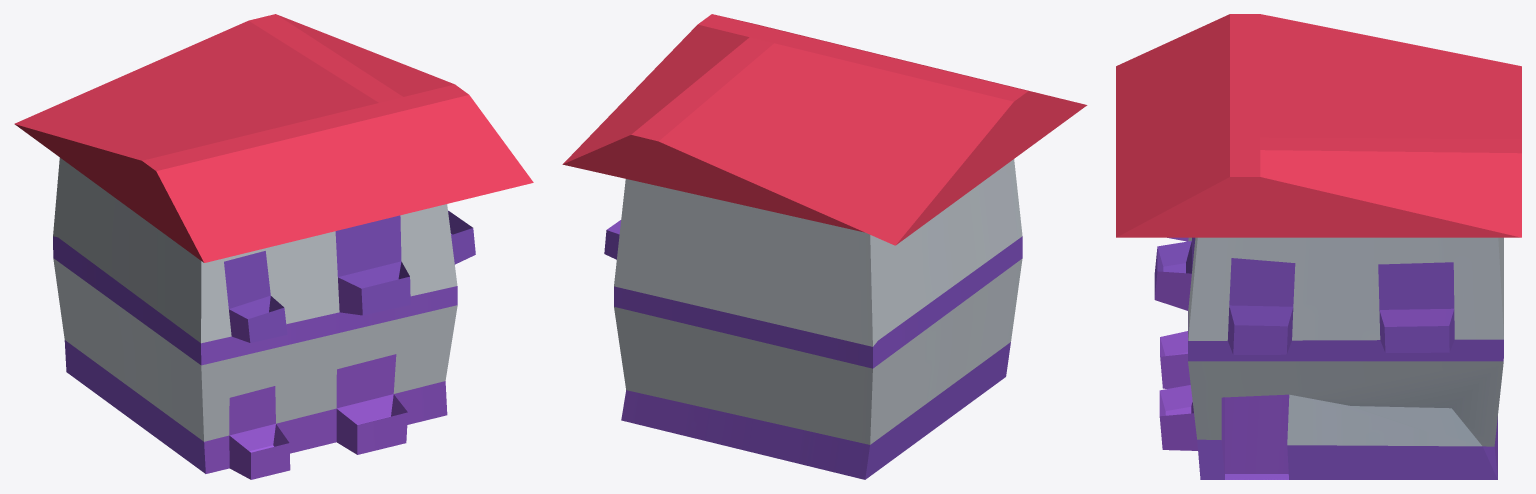
File: casa_8_2.glb
3 views of the same model, side by side, from view 1: azimuth 30°, elevation 25°; view 2: azimuth 150°, elevation 25°; view 3: azimuth 270°, elevation 25° (orthographic). The views are drawn at different scales.
Visible parts, largest first — view 1: Cube; view 2: Cube; view 3: Cube.
Boxes of the visible parts, <box> form: Cube: <box>14,14,533,479</box>; Cube: <box>562,14,1087,479</box>; Cube: <box>1116,14,1521,479</box>.
Size of what is drawn, in the model's own units: 25.66 by 22.48 by 25.66.
1 material, 1 textured.
